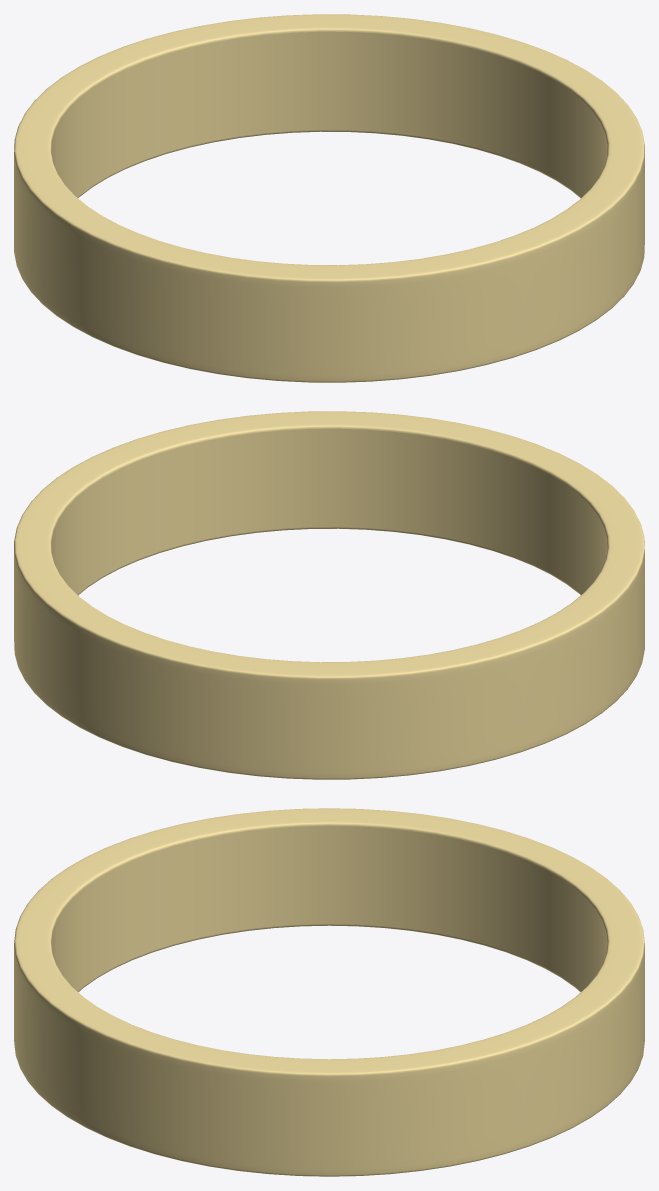
3 renders of one model, top to bottom at view 1: azimuth 30°, elevation 25°; view 2: azimuth 150°, elevation 25°; view 3: azimuth 270°, elevation 25°, orthographic.
Visible parts, largest first — view 1: Base_metal, Engraving_Metal; view 2: Base_metal, Engraving_Metal; view 3: Base_metal, Engraving_Metal.
Part boxes in pixels (bbox=[...]): Base_metal: bbox=[14, 14, 644, 382]; Engraving_Metal: bbox=[51, 31, 607, 197]; Base_metal: bbox=[14, 411, 644, 779]; Engraving_Metal: bbox=[51, 428, 607, 594]; Base_metal: bbox=[14, 808, 644, 1176]; Engraving_Metal: bbox=[51, 825, 607, 991].
Size of the model in its own units: 1.1 by 0.2 by 1.1.
